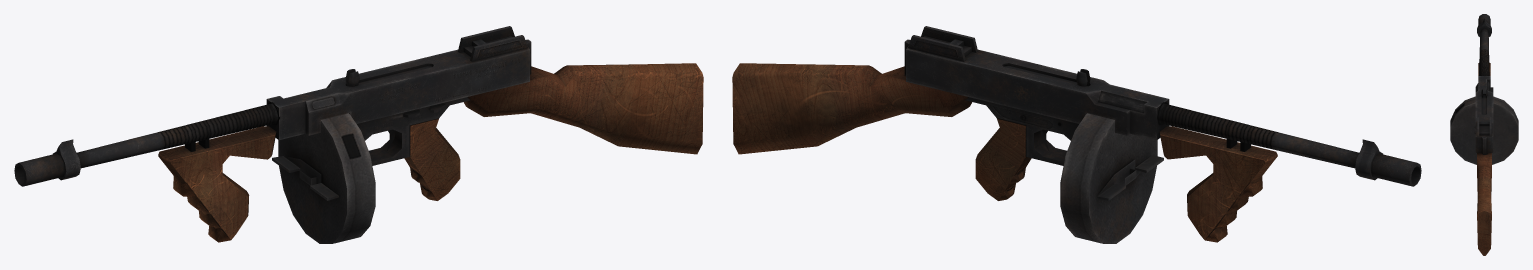
File: Thompson_Final.fbx
The picture shows the model from 3 angles, left to right: view 1: azimuth 30°, elevation 25°; view 2: azimuth 150°, elevation 25°; view 3: azimuth 270°, elevation 25°; orthographic projection. The views are drawn at different scales.
Parts seen in each view (by area): view 1: polySurface14, polySurface10; view 2: polySurface14, polySurface10; view 3: polySurface14, polySurface10.
Boxes of the visible parts, bbox=[...] form: polySurface14: bbox=[14, 26, 703, 242]; polySurface10: bbox=[272, 113, 375, 243]; polySurface14: bbox=[732, 26, 1421, 242]; polySurface10: bbox=[1060, 113, 1163, 243]; polySurface14: bbox=[1474, 14, 1493, 255]; polySurface10: bbox=[1450, 96, 1518, 164].
Size of the model in its own units: 40.23 by 9.45 by 7.07.
